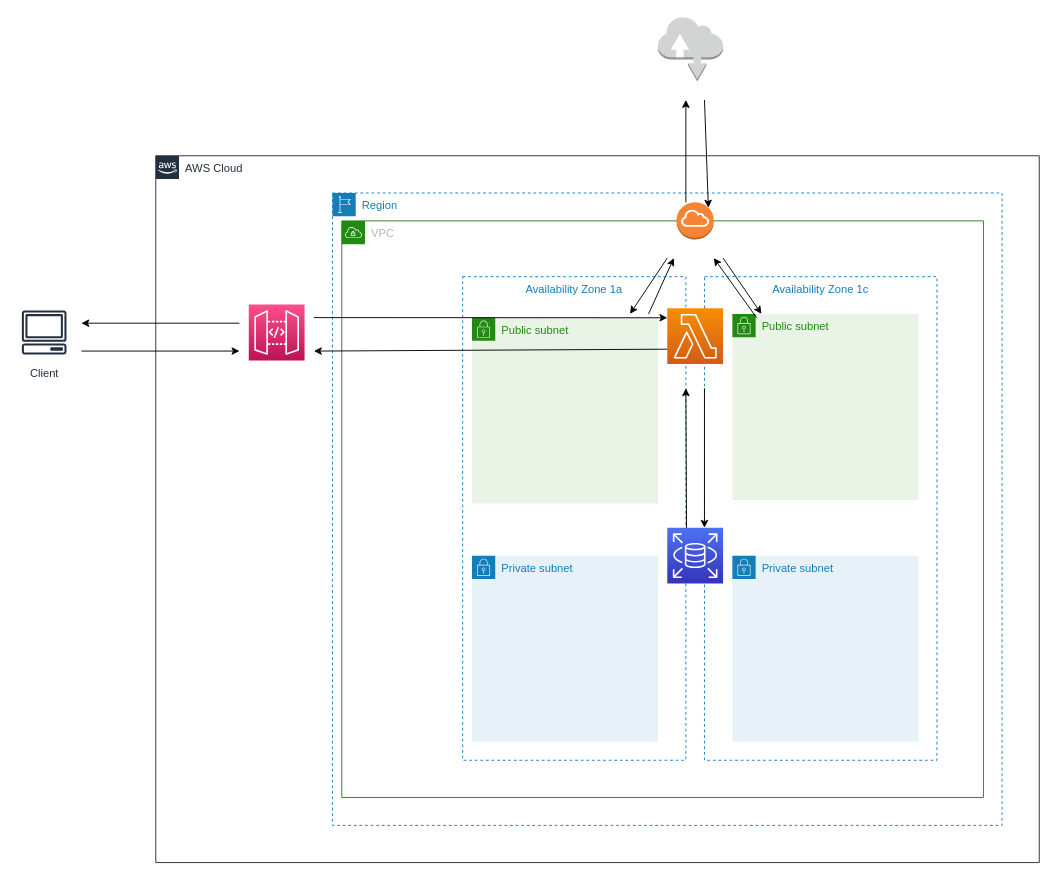
This 1056x879 diagram has some shape labels left out. The centre of each missing label's shape, as x and y in pixels:
"Amazon RDS" goes at (694,555).
"API Gateway" goes at (276,332).
"AWS Lambda" goes at (694,335).
"Internet" goes at (690,48).
"Internet Gateway" goes at (695,220).
